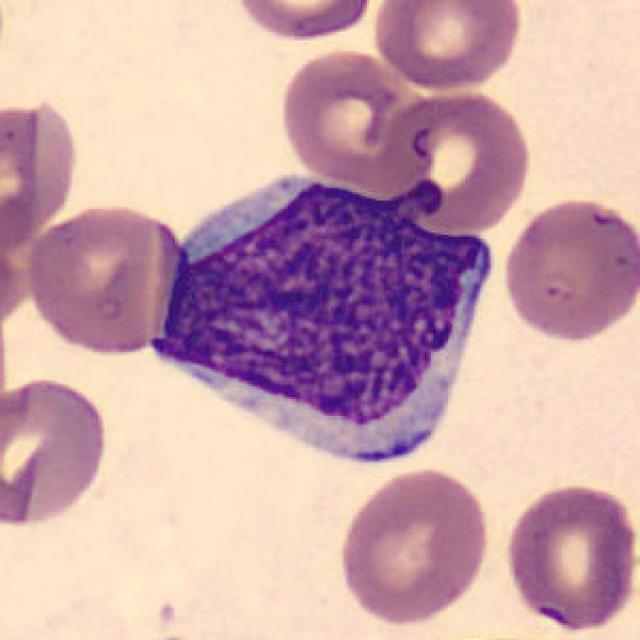WBC: (138, 149, 520, 474)
